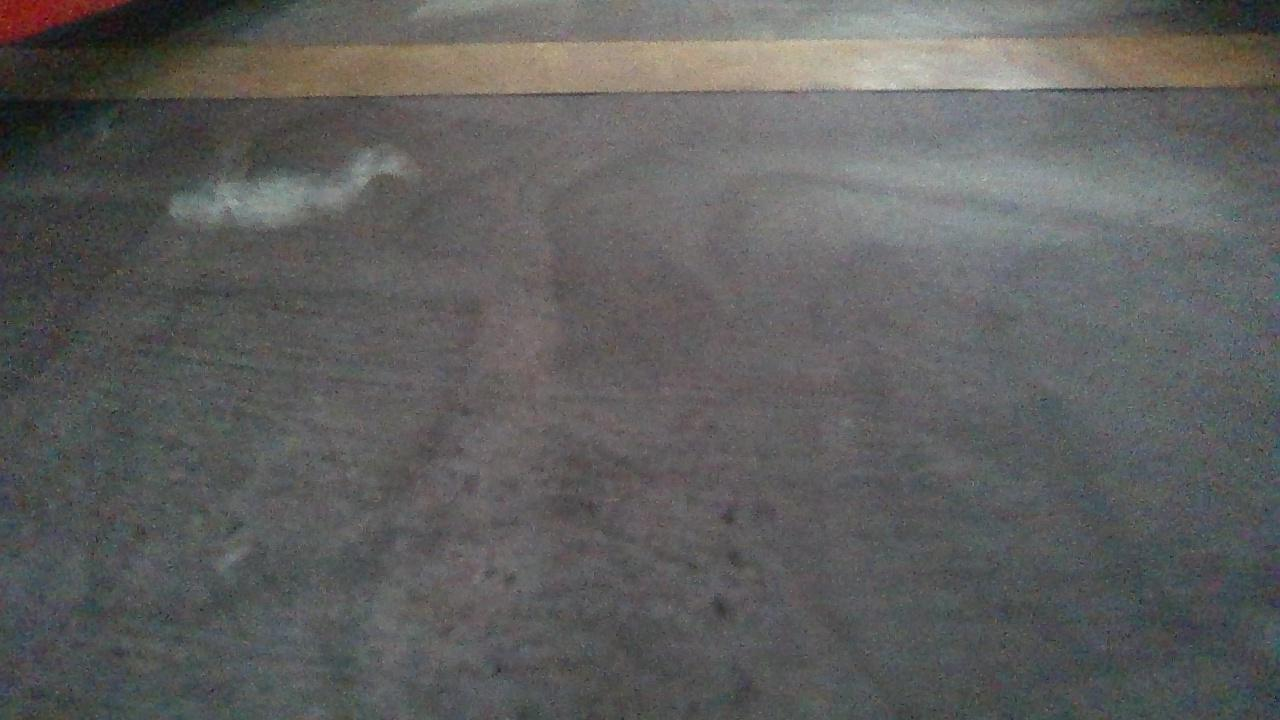yellow_line: (0, 31, 1280, 98)
